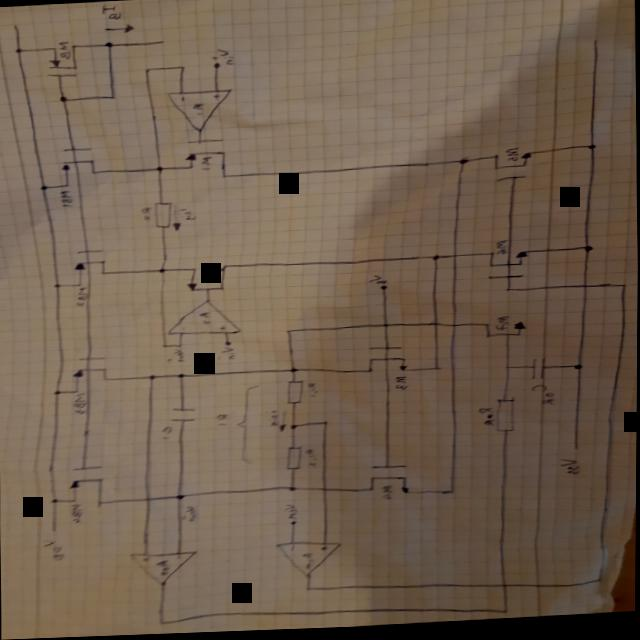capacitor: (169, 407, 197, 424), (530, 359, 546, 384)
crossover: (382, 324, 392, 331), (321, 487, 329, 494), (500, 585, 511, 590), (143, 496, 152, 502), (432, 323, 440, 329), (581, 287, 589, 293), (450, 325, 458, 331), (450, 255, 458, 261)
junction: (458, 157, 470, 168), (57, 94, 68, 102), (573, 366, 583, 374), (175, 493, 185, 501), (583, 248, 594, 255), (287, 486, 297, 493), (157, 619, 167, 626), (154, 166, 165, 172), (305, 586, 314, 593), (38, 184, 48, 190), (587, 146, 597, 152), (147, 374, 157, 380), (103, 41, 113, 47), (13, 46, 23, 52), (501, 611, 511, 617), (50, 496, 58, 503), (176, 373, 185, 379), (289, 368, 298, 374), (430, 257, 439, 263), (157, 267, 166, 273), (52, 281, 61, 287), (53, 388, 62, 394), (448, 490, 457, 496), (289, 425, 298, 431), (108, 94, 116, 100), (321, 421, 329, 427), (178, 65, 186, 71), (434, 367, 442, 373), (503, 367, 511, 372), (143, 67, 151, 72), (505, 289, 513, 294), (620, 286, 628, 291), (175, 343, 183, 348), (161, 343, 168, 348), (285, 330, 293, 334), (596, 581, 603, 585)
resistor: (492, 400, 520, 437), (153, 201, 173, 230), (286, 381, 304, 406), (286, 447, 303, 471)
terminal: (588, 38, 604, 51), (211, 62, 221, 70), (11, 22, 19, 28), (223, 341, 231, 346), (158, 39, 164, 45), (380, 287, 388, 291), (49, 527, 57, 531), (289, 522, 296, 526), (572, 449, 578, 453)
text: (530, 386, 556, 409), (210, 48, 234, 67), (44, 540, 65, 560), (559, 460, 581, 479), (72, 391, 88, 415), (264, 409, 282, 430), (99, 3, 121, 20), (478, 409, 496, 429), (173, 207, 197, 222), (216, 346, 237, 363), (181, 505, 199, 524), (75, 284, 90, 306), (58, 188, 74, 207), (68, 503, 83, 523), (304, 449, 318, 469), (504, 148, 520, 165), (284, 504, 299, 522), (166, 349, 185, 363), (366, 275, 388, 287), (301, 554, 317, 570), (381, 486, 396, 503), (58, 39, 71, 58), (156, 559, 171, 575), (394, 378, 409, 393), (494, 242, 509, 257), (197, 311, 213, 325), (214, 413, 231, 426), (495, 319, 510, 333), (306, 383, 319, 399), (203, 266, 216, 282), (199, 157, 213, 170), (160, 426, 173, 439), (191, 103, 204, 116), (140, 207, 151, 221), (139, 557, 151, 563), (211, 94, 221, 101), (320, 546, 329, 552), (218, 325, 227, 331), (175, 554, 183, 560), (289, 546, 297, 552), (178, 96, 186, 102), (180, 327, 186, 331)
transistor: (183, 136, 236, 182), (54, 142, 100, 188), (65, 461, 110, 508), (362, 342, 411, 378), (69, 244, 110, 287), (70, 350, 110, 393), (42, 40, 83, 81), (366, 463, 412, 498), (489, 151, 535, 186), (487, 250, 532, 285), (481, 316, 530, 344), (185, 263, 229, 293)
